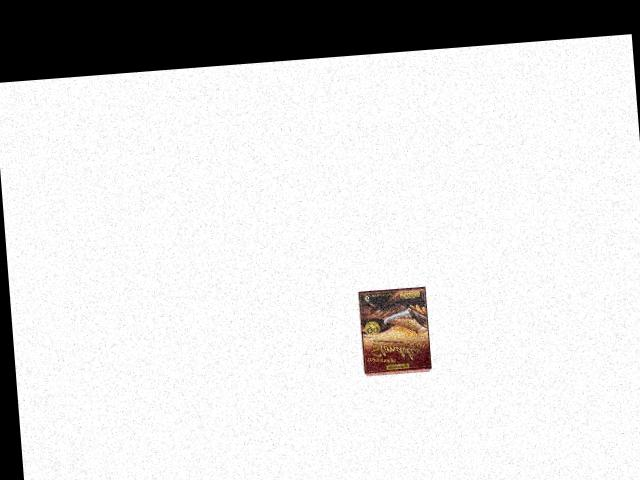chocolate: (357, 286, 431, 376)
